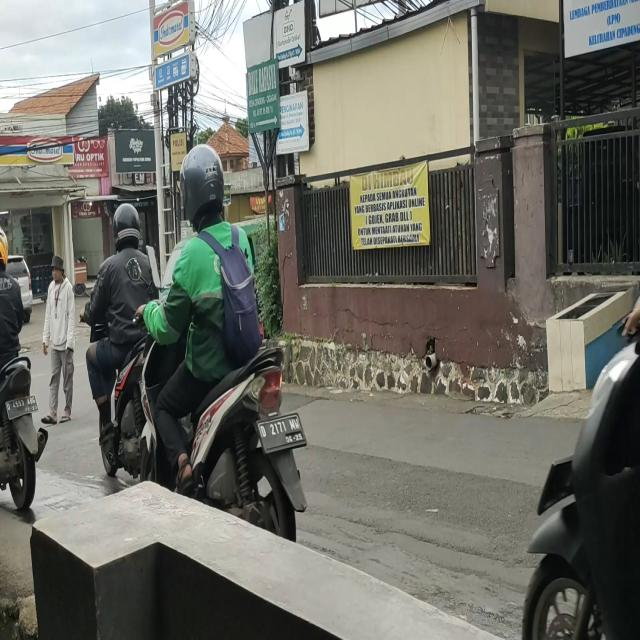helmet: (181, 145, 226, 218), (112, 203, 144, 254)
